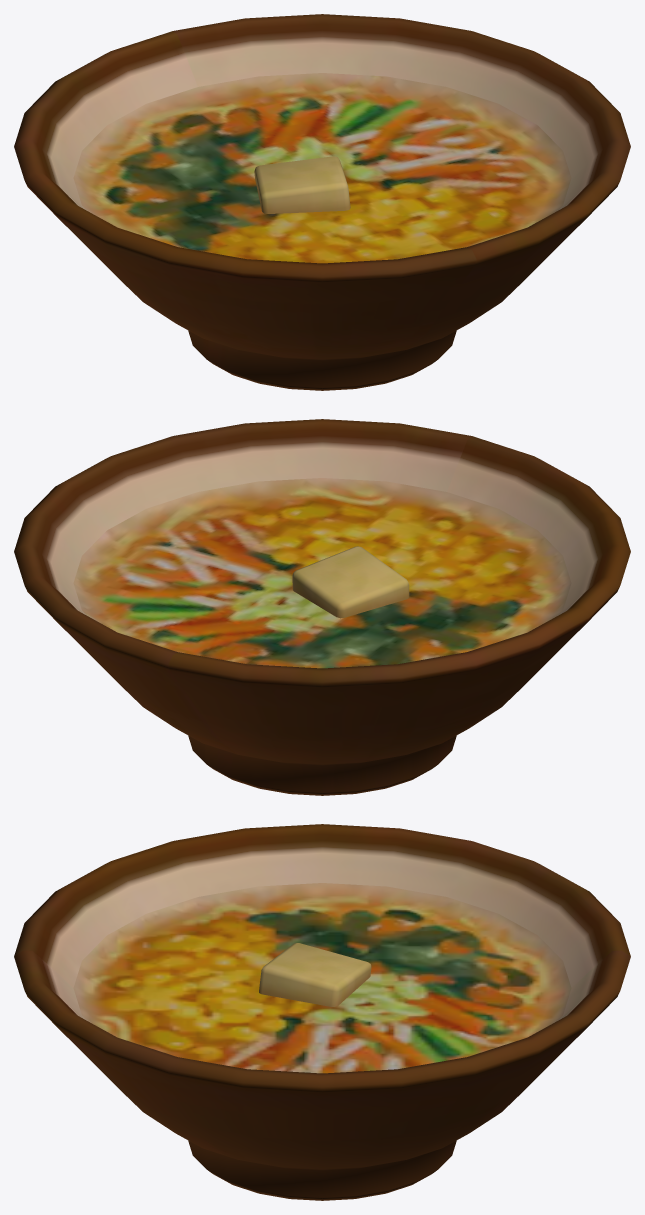
3 renders of one model, top to bottom at view 1: azimuth 30°, elevation 25°; view 2: azimuth 150°, elevation 25°; view 3: azimuth 270°, elevation 25°, orthographic.
Size of the model in its own units: 7.64 by 2.69 by 7.64.
1 material, 1 textured.
